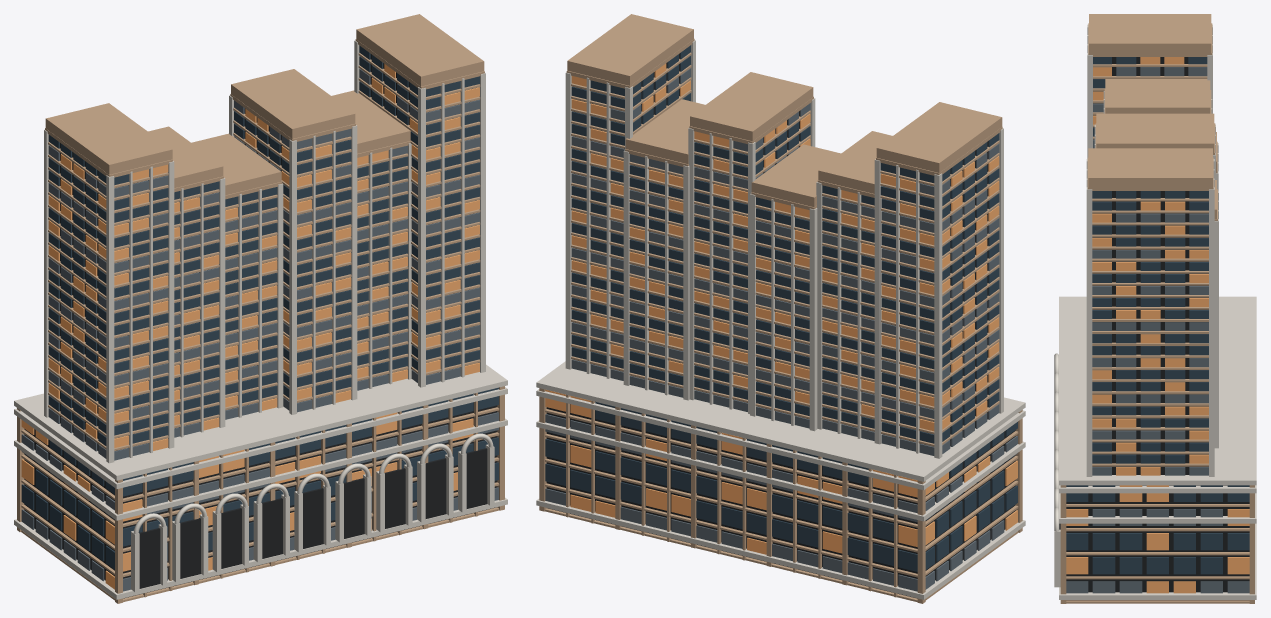
The model's file is mumbai-platinum-mall.glb.
3 renders of one model, left to right at view 1: azimuth 30°, elevation 25°; view 2: azimuth 150°, elevation 25°; view 3: azimuth 270°, elevation 25°, orthographic. The views are drawn at different scales.
Visible parts, largest first — view 1: Stepped residential wings, Arcaded stone podium; view 2: Stepped residential wings, Arcaded stone podium; view 3: Stepped residential wings, Arcaded stone podium.
Part boxes in pixels (box(x1,y1,x2,y2)): Stepped residential wings: box(44, 14, 485, 463); Arcaded stone podium: box(14, 364, 507, 603); Stepped residential wings: box(565, 14, 1003, 458); Arcaded stone podium: box(536, 361, 1025, 603); Stepped residential wings: box(1086, 14, 1218, 476); Arcaded stone podium: box(1054, 296, 1256, 603).
Size of the model in its own units: 10.14 by 10.89 by 4.72.
